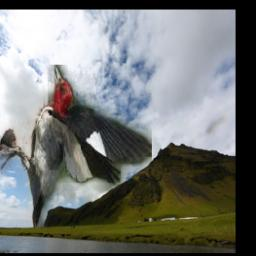Woodpecker: (0, 66, 152, 228)
